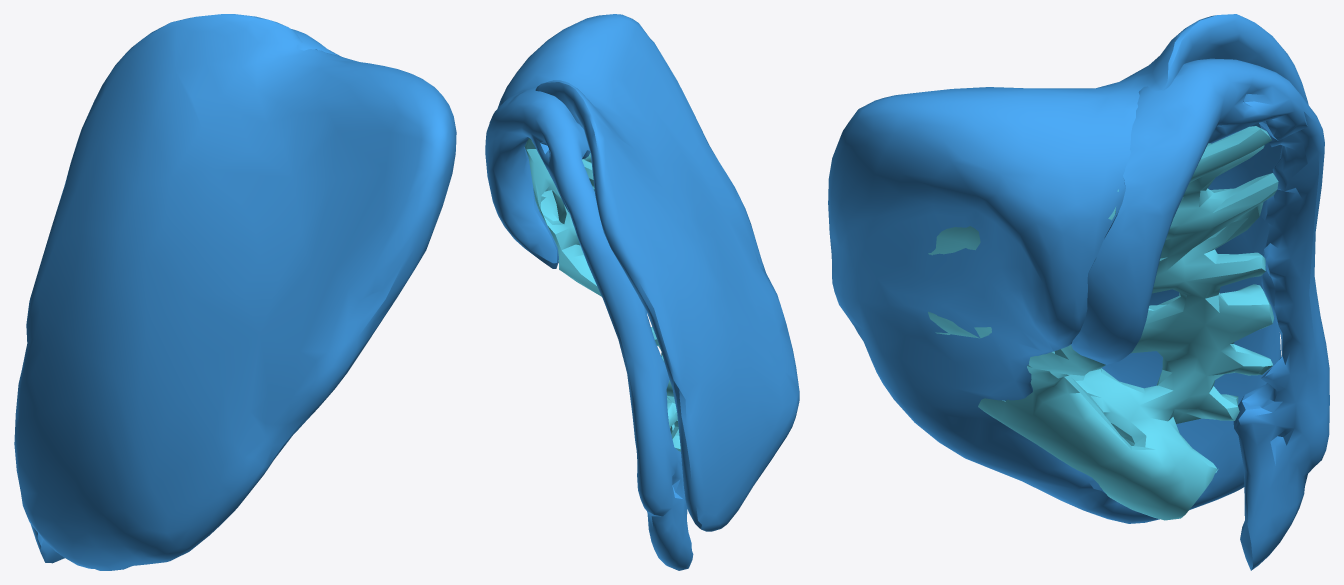
The model's file is aurikel_kanan.glb.
3 views of the same model, side by side, from view 1: azimuth 30°, elevation 25°; view 2: azimuth 150°, elevation 25°; view 3: azimuth 270°, elevation 25° (orthographic). The views are drawn at different scales.
Visible parts, largest first — view 1: MM466_BP51829_FMA49298_Pectinate muscle of right auricle; view 2: MM466_BP51829_FMA49298_Pectinate muscle of right auricle; view 3: MM466_BP51829_FMA49298_Pectinate muscle of right auricle.
Boxes of the visible parts, bbox=[...] form: MM466_BP51829_FMA49298_Pectinate muscle of right auricle: bbox=[14, 14, 456, 570]; MM466_BP51829_FMA49298_Pectinate muscle of right auricle: bbox=[485, 14, 799, 570]; MM466_BP51829_FMA49298_Pectinate muscle of right auricle: bbox=[828, 14, 1329, 570].
Bounding box in the file's own units: 0.0371 × 0.057 × 0.0412.
